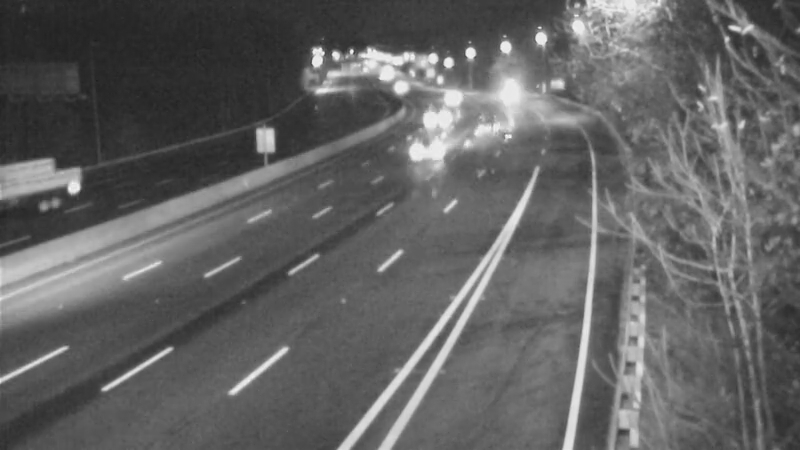vehicle: (1, 156, 77, 236), (373, 63, 423, 113), (425, 73, 475, 123), (482, 71, 532, 121), (412, 90, 462, 140), (462, 104, 512, 154), (403, 124, 453, 174)
